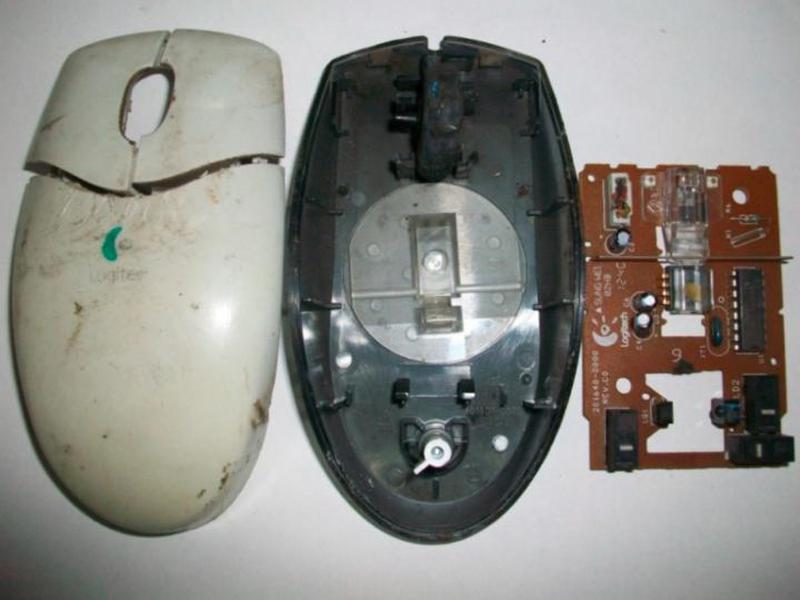circuit_board: (576, 138, 800, 487)
mouse: (285, 25, 583, 553), (10, 20, 291, 544)
